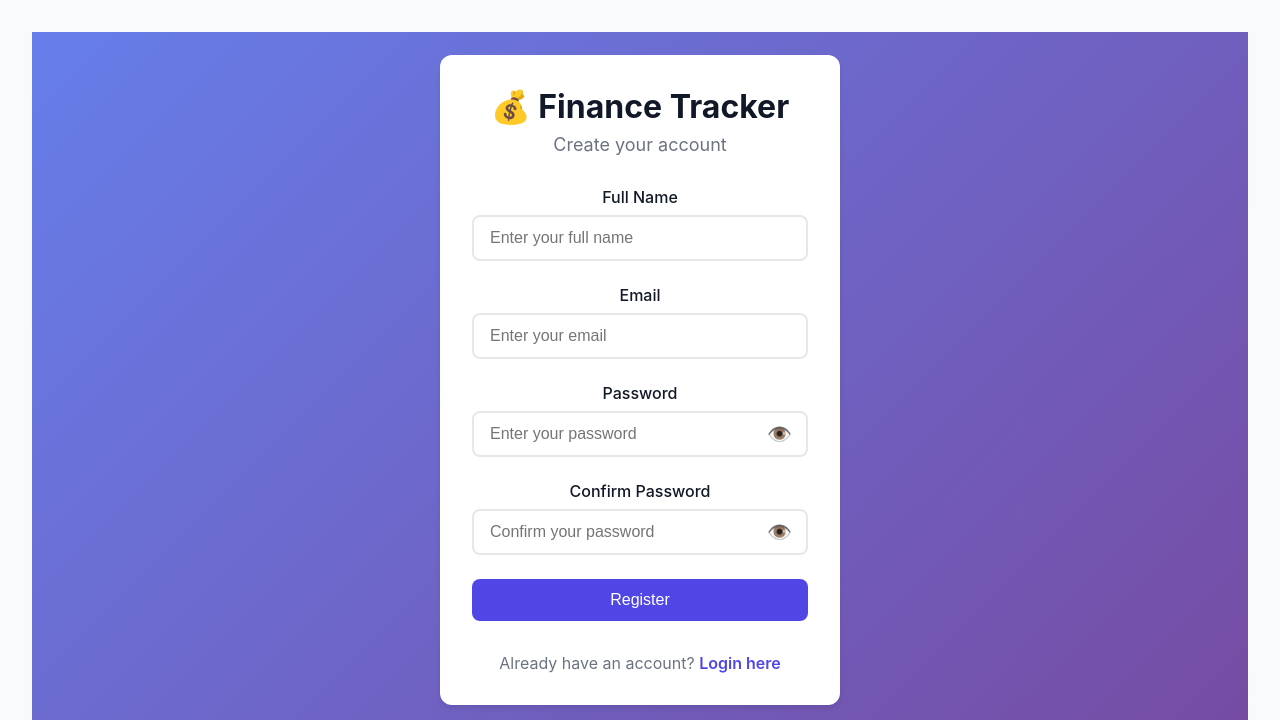
Authentication Flow › User Registration › should validate required fields
The image size is (1280, 720).
# Try to submit without filling fields
Click the button "Register" at (640, 600), box [472,579,808,621]
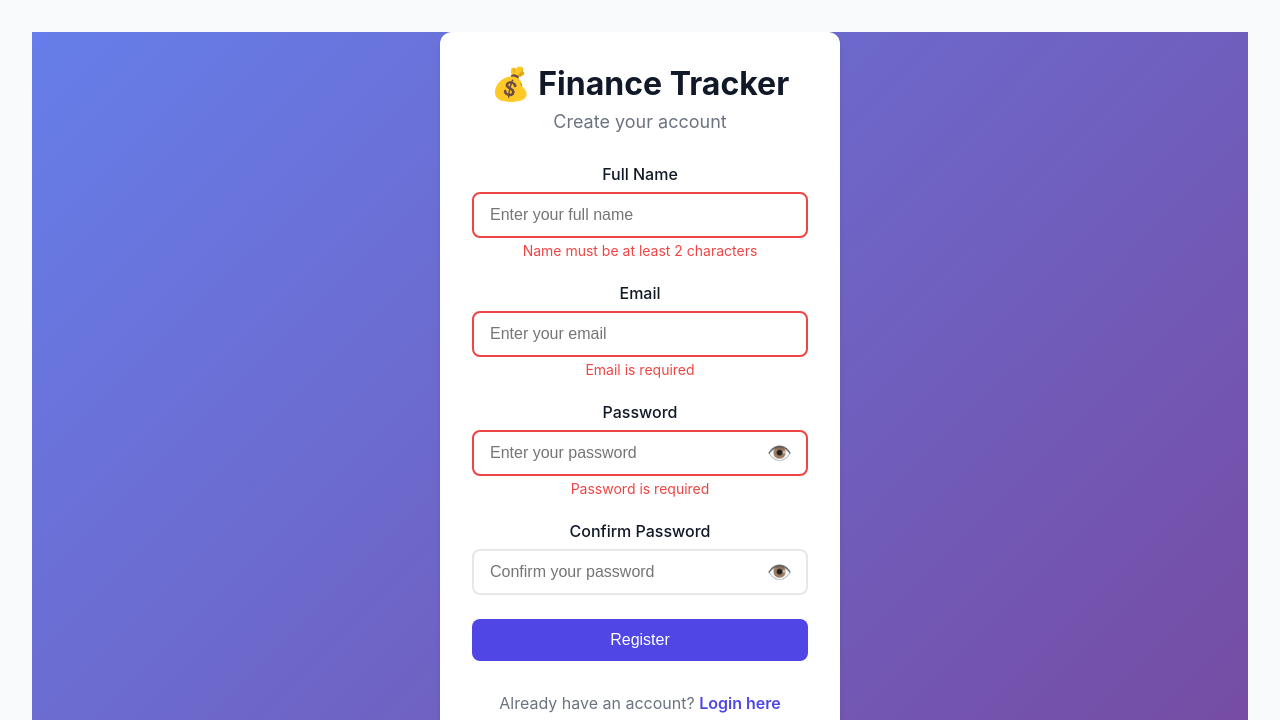
Expected: the text "Name must be at least 2 characters" is shown, [523,242,757,259]
Expected: the text "Email is required" is shown, [585,361,695,378]
Expected: the text "Password is required" is shown, [571,480,709,497]
